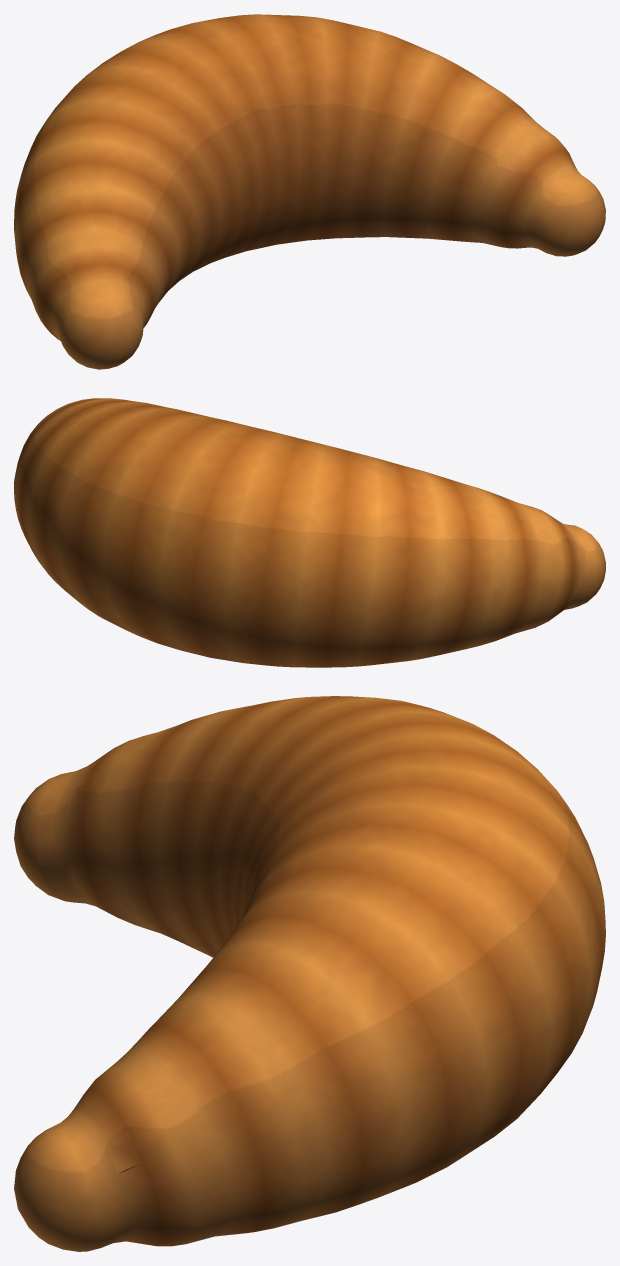
Rendered from decor_croissant.glb.
3 views of the same model, one above another, from view 1: azimuth 30°, elevation 25°; view 2: azimuth 150°, elevation 25°; view 3: azimuth 270°, elevation 25° (orthographic). The views are drawn at different scales.
Parts seen in each view (by area): view 1: Croissant; view 2: Croissant; view 3: Croissant.
Part boxes in pixels (x1,y1,x2,y2): Croissant: (14, 14, 605, 369); Croissant: (14, 398, 605, 667); Croissant: (14, 696, 605, 1251).
Size of what is drawn, in the model's own units: 1.86 by 0.6645 by 1.15.
1 material, 1 textured.
